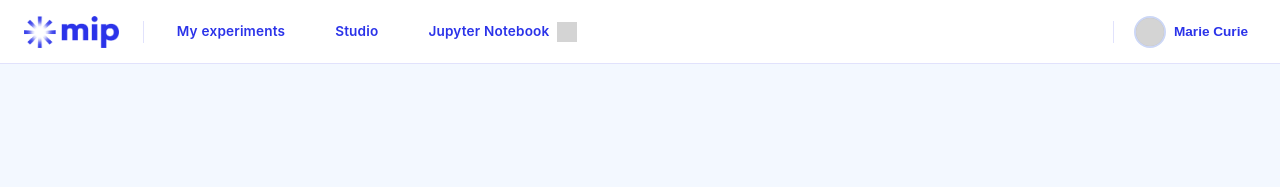
Test: HeaderComponent › opens the account menu and hands focus back on Escape
Click the button with class "sign-in-btn" at (1193, 32), box [1130,12,1256,52]
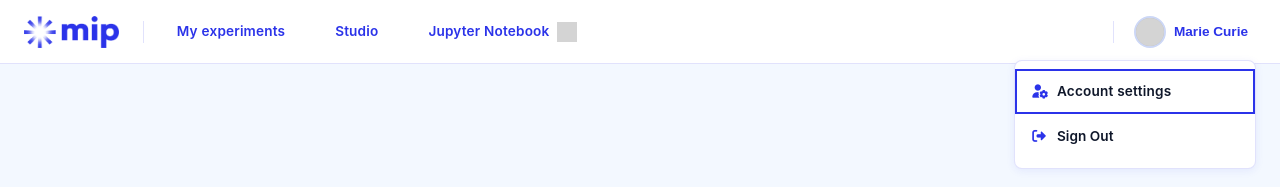
Expected: the menu with class "account-menu" is shown
Expected: the number of menu items is 2, [1031,82,1171,98]; [1015,114,1255,160]
Press Escape in the menu with class "account-menu", box [1014,60,1256,169]
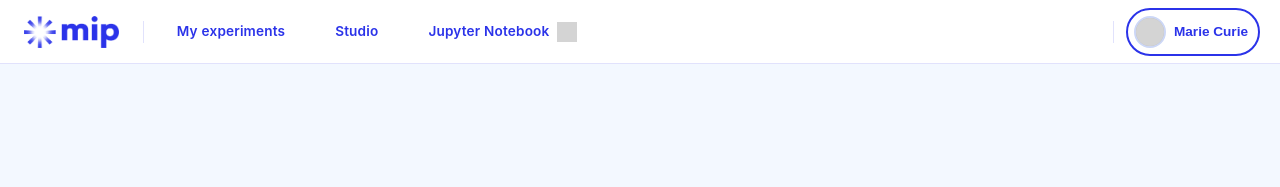
Expected: the menu with class "account-menu" is gone
